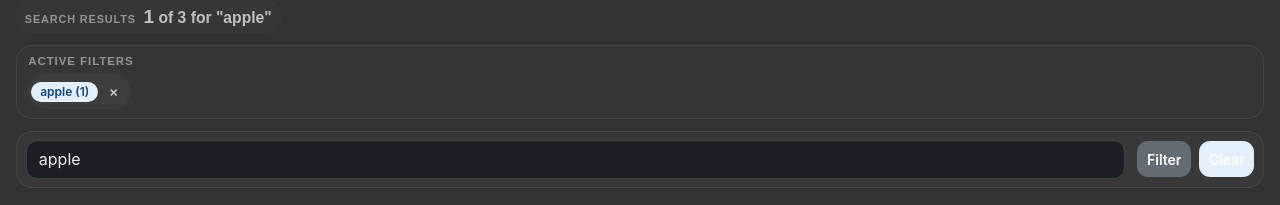
Test: Clear button functionality › Clear button clears input value and keyword
Click the button titled "Clear search and view adjacent photos": x=1227, y=159 [1199,141,1254,177]
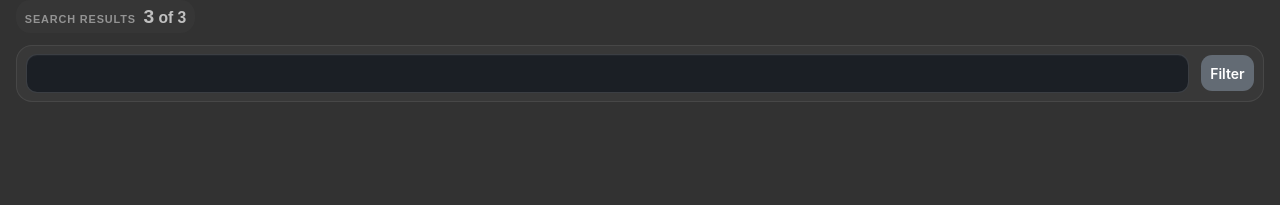
Expected: the dropdown is empty, [39,61,1176,85]
Expected: the text "for \"apple\"" is gone
